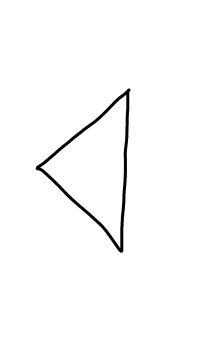Triangle: (33, 85, 132, 255)
